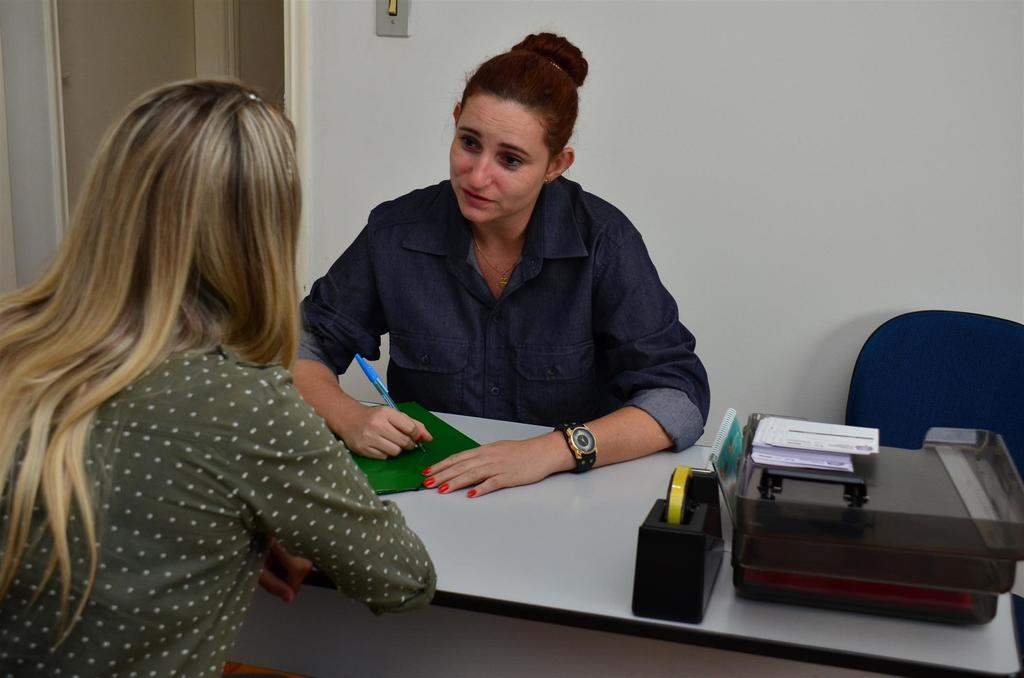Luggage-and-bags: (718, 411, 1022, 626)
